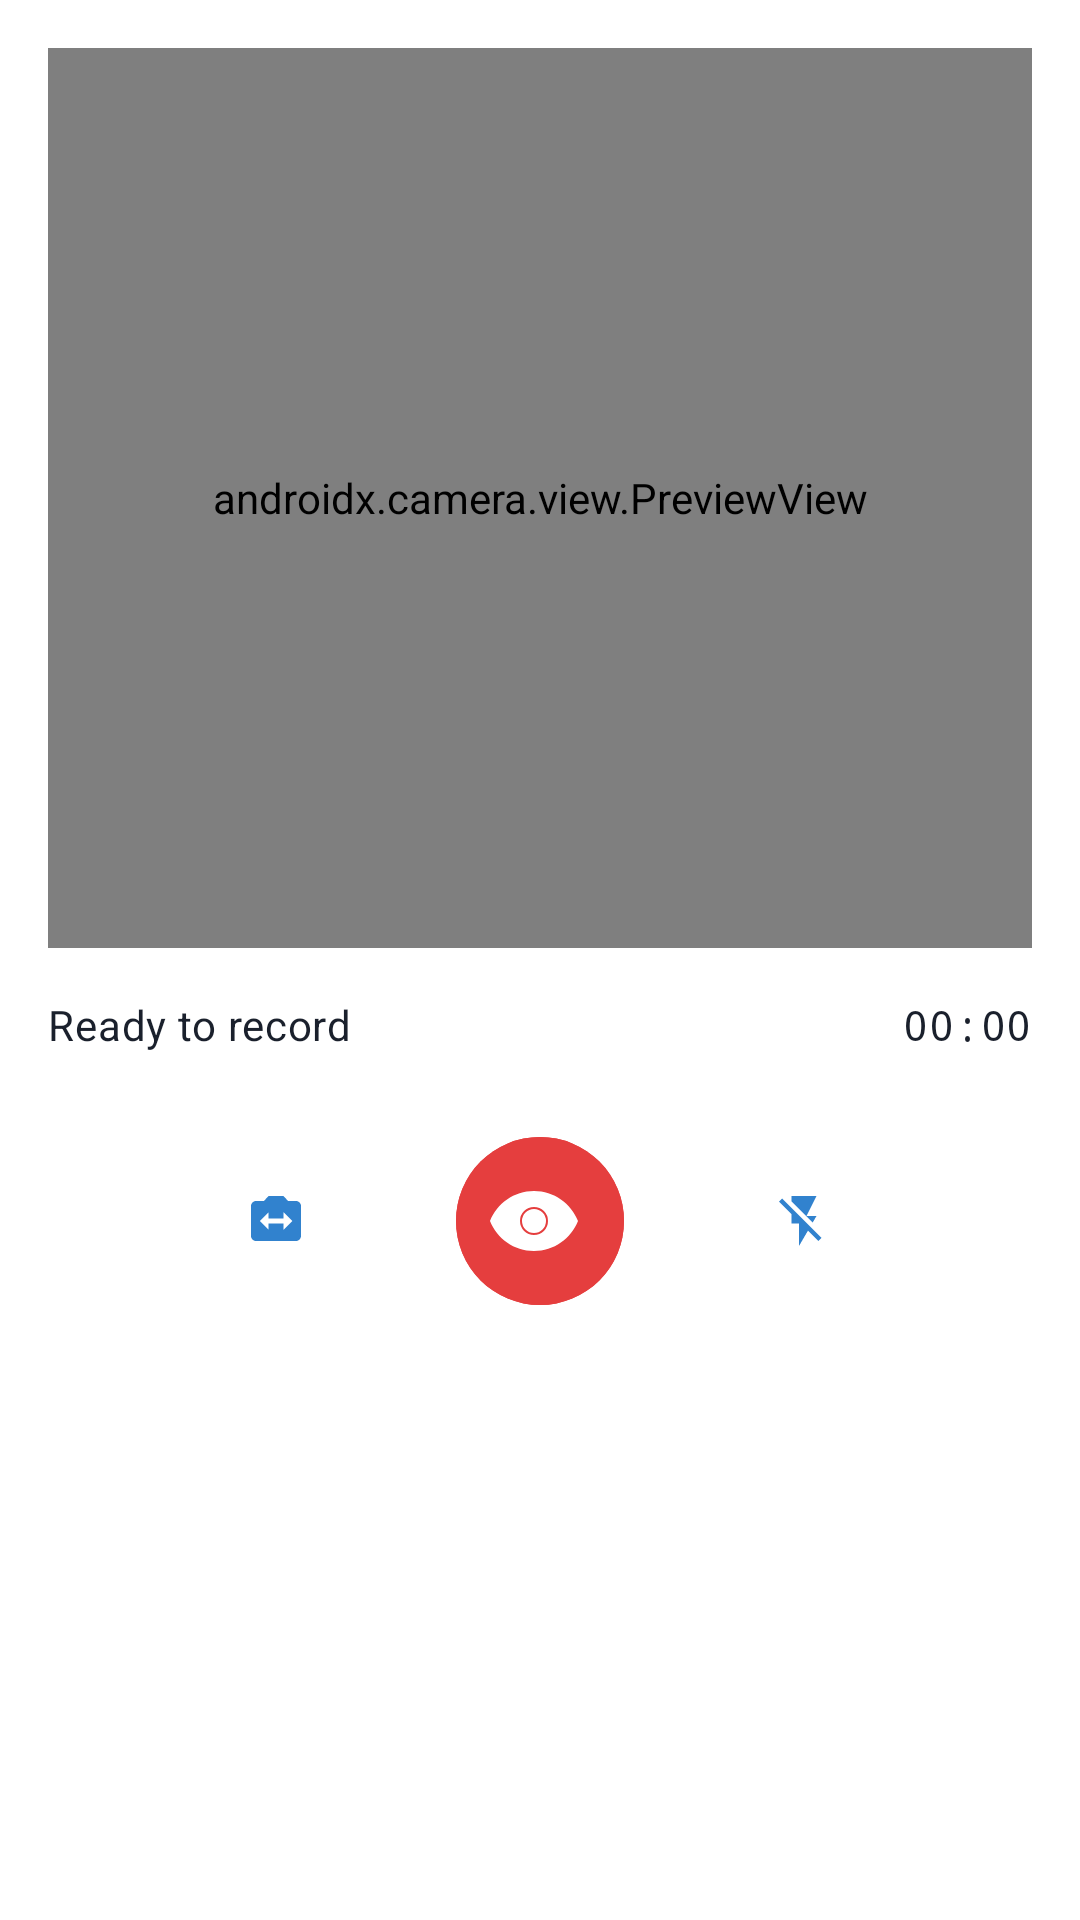

Named icons in this screenshot (1080px×1920px) and their centers, [x,y]:
Record Video: [540,1221]
Switch camera: [276,1218]
Toggle flash: [800,1221]
